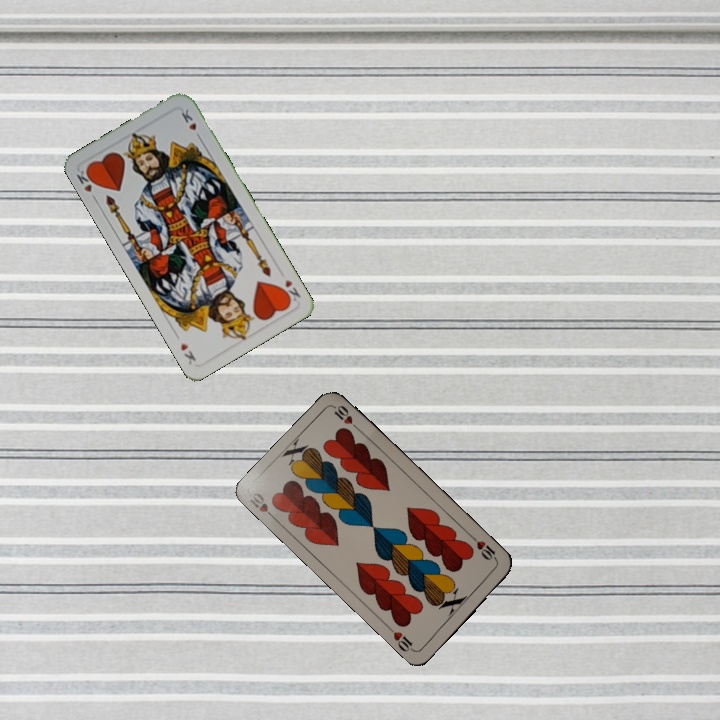H10: (245, 488, 279, 523), (468, 532, 500, 565)
HK: (72, 164, 99, 204), (277, 275, 303, 305)
